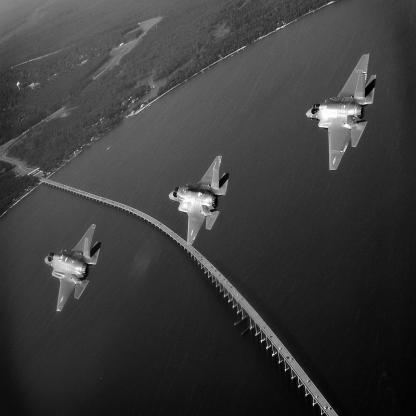F35: (306, 54, 377, 172), (170, 156, 231, 247), (46, 224, 103, 313)
